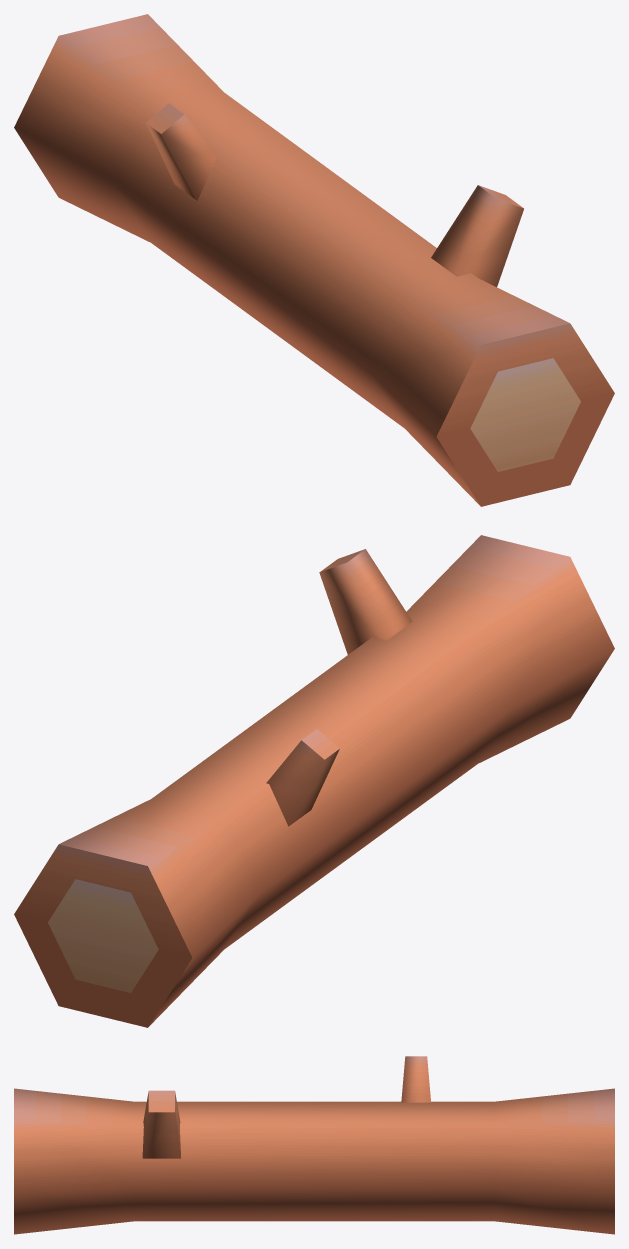
The model's file is tree-log.glb.
3 renders of one model, top to bottom at view 1: azimuth 30°, elevation 25°; view 2: azimuth 150°, elevation 25°; view 3: azimuth 270°, elevation 25°, orthographic. The views are drawn at different scales.
Visible parts, largest first — view 1: tree-log; view 2: tree-log; view 3: tree-log.
Boxes of the visible parts, left/top/right/bottom form: tree-log: left=14, top=14, right=614, bottom=506; tree-log: left=14, top=535, right=614, bottom=1027; tree-log: left=14, top=1056, right=614, bottom=1234.
Size of the model in its own units: 0.2495 by 0.2771 by 1.
Materials: 1 (1 with a texture image).
